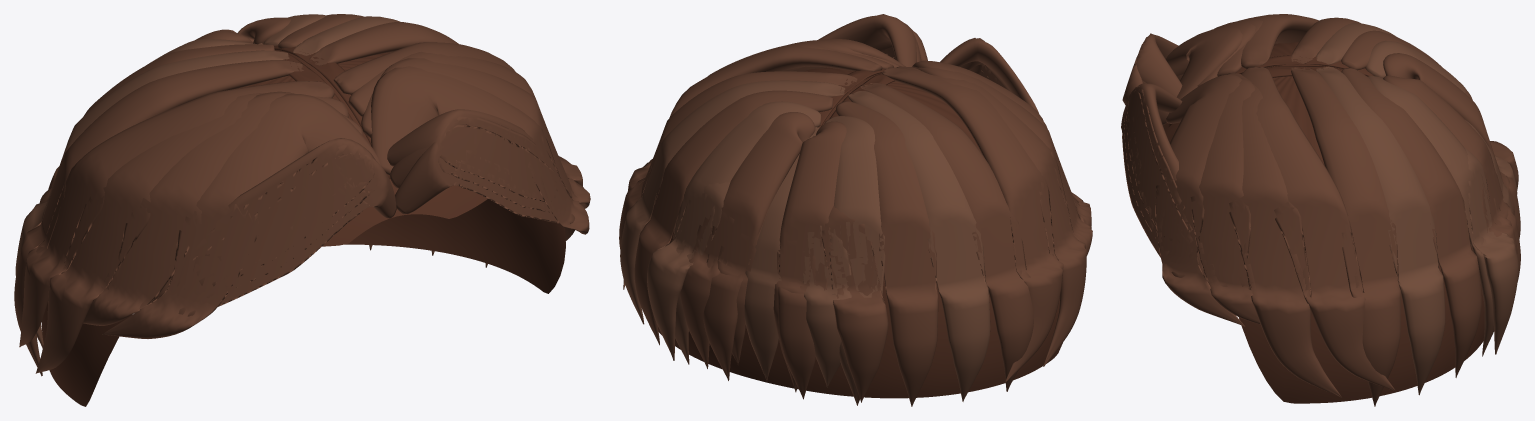
File: Masculine-middle-part-cowboy251-hair.glb
The picture shows the model from 3 angles, left to right: view 1: azimuth 30°, elevation 25°; view 2: azimuth 150°, elevation 25°; view 3: azimuth 270°, elevation 25°; orthographic projection. The views are drawn at different scales.
Parts seen in each view (by area): view 1: 226 hair / Hair / chestnut226.002, 226 hair / Hair / recessed roots251.002, 226 hair / Hair / main251.001, 226 hair / Hair / accent251.001, 226 hair / Hair / recessed roots251.003; view 2: 226 hair / Hair / main251.001, 226 hair / Hair / accent251.001, 226 hair / Hair / chestnut226.002, 226 hair / Hair / recessed roots251.002, 226 hair / Hair / recessed roots251.003; view 3: 226 hair / Hair / chestnut226.002, 226 hair / Hair / main251.001, 226 hair / Hair / accent251.001, 226 hair / Hair / recessed roots251.002, 226 hair / Hair / recessed roots251.003.
Boxes of the visible parts, x1,y1,x2,y2 form: 226 hair / Hair / chestnut226.002: [19, 42, 590, 373]; 226 hair / Hair / recessed roots251.002: [41, 50, 565, 406]; 226 hair / Hair / main251.001: [14, 14, 487, 376]; 226 hair / Hair / accent251.001: [15, 14, 434, 348]; 226 hair / Hair / recessed roots251.003: [274, 45, 390, 178]; 226 hair / Hair / main251.001: [619, 71, 1033, 406]; 226 hair / Hair / accent251.001: [620, 80, 990, 405]; 226 hair / Hair / chestnut226.002: [623, 14, 1092, 382]; 226 hair / Hair / recessed roots251.002: [658, 67, 1062, 398]; 226 hair / Hair / recessed roots251.003: [818, 69, 894, 127]; 226 hair / Hair / chestnut226.002: [1121, 14, 1395, 397]; 226 hair / Hair / main251.001: [1291, 17, 1520, 406]; 226 hair / Hair / accent251.001: [1316, 23, 1518, 395]; 226 hair / Hair / recessed roots251.002: [1163, 42, 1484, 403]; 226 hair / Hair / recessed roots251.003: [1168, 55, 1373, 127].
Bounding box in the file's own units: 1.07 × 0.5895 × 0.8316.
